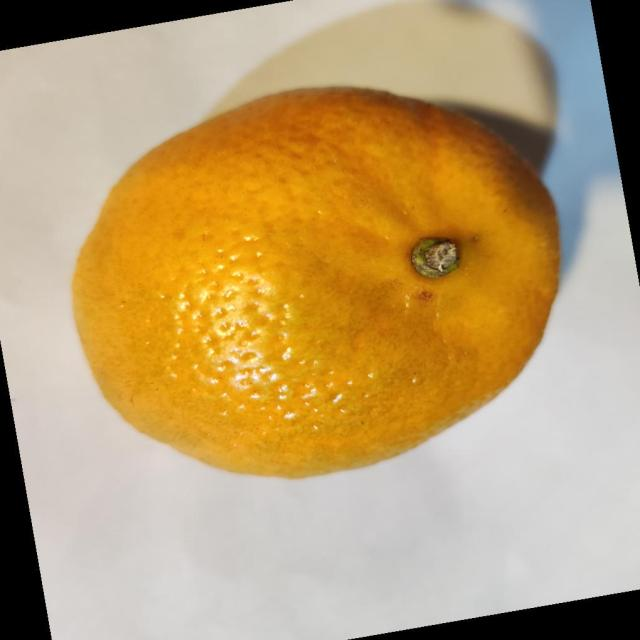fresh orange: (70, 83, 562, 480)
